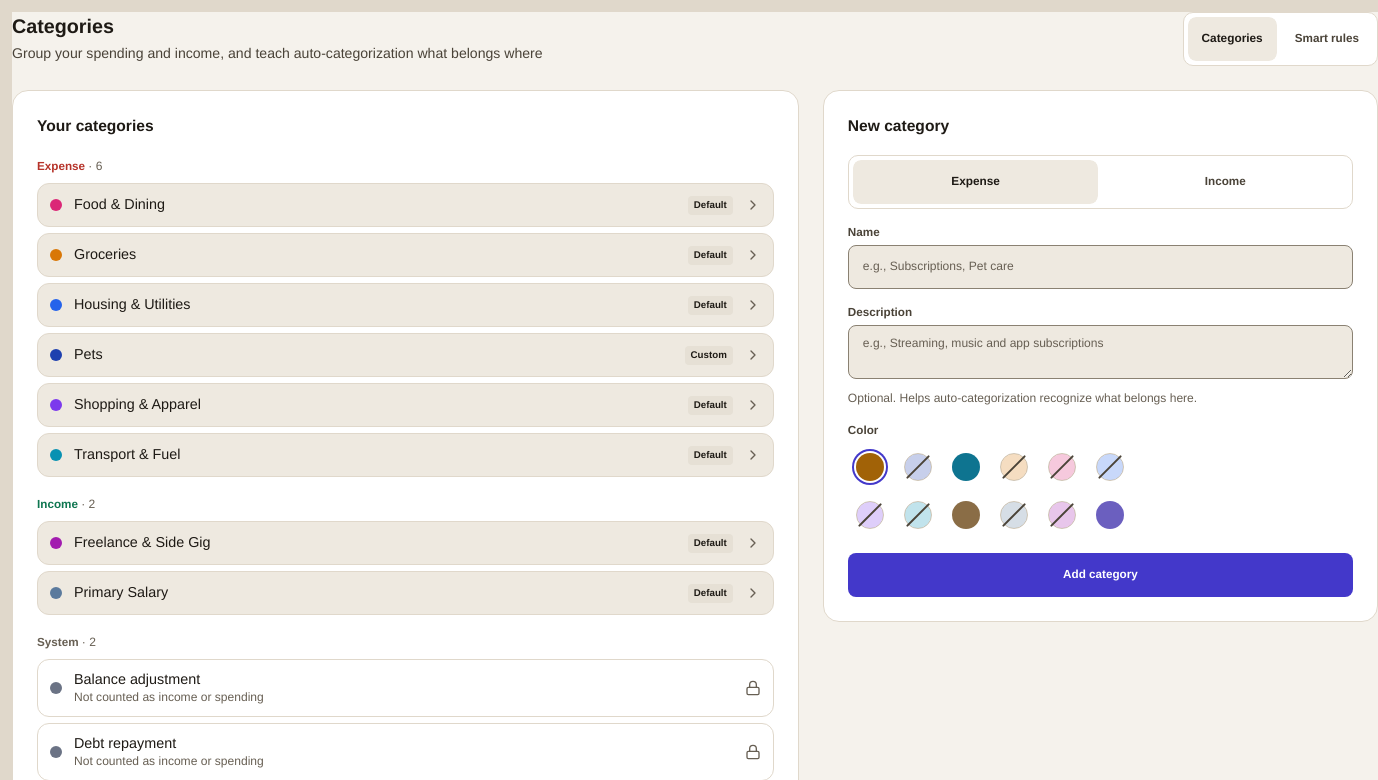
Test: the form, from lg › a row opens "Edit category" with its values, and Cancel returns to "New category"
The width and height of the screenshot is (1378, 780).
expect the heading with id "category-form-heading" reads "New category": met, box [848,113,949,140]
Click the button with id "category-edit-pets": (709, 355) [37,333,774,377]
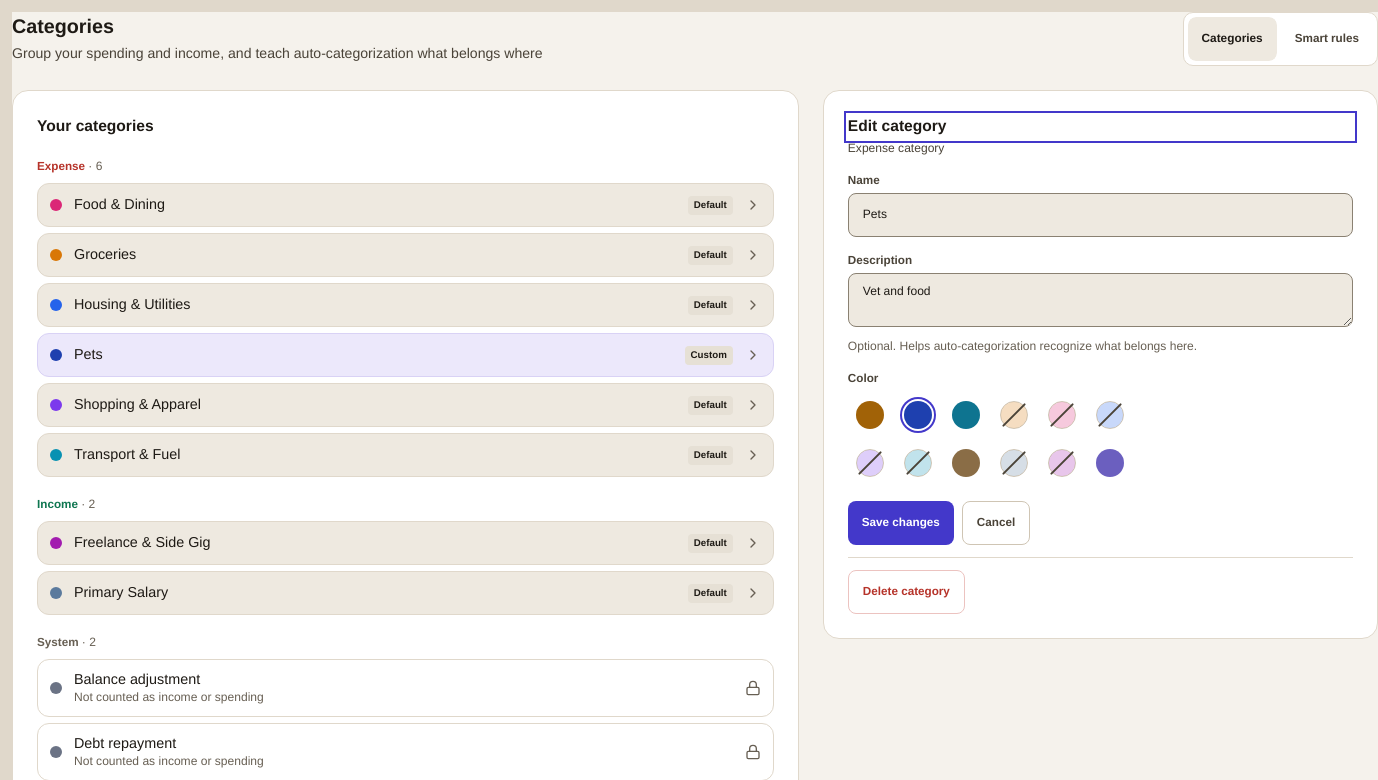
expect the heading with id "category-form-heading" reads "Edit category": met, box [848,113,946,140]
expect the field with id "category-edit-name" holds "Pets": met, box [848,193,1353,237]
expect the text box with id "category-edit-description" holds "Vet and food": met, box [848,273,1353,327]
Click the button with id "category-edit-cancel-btn": (996, 523) [962,501,1030,545]
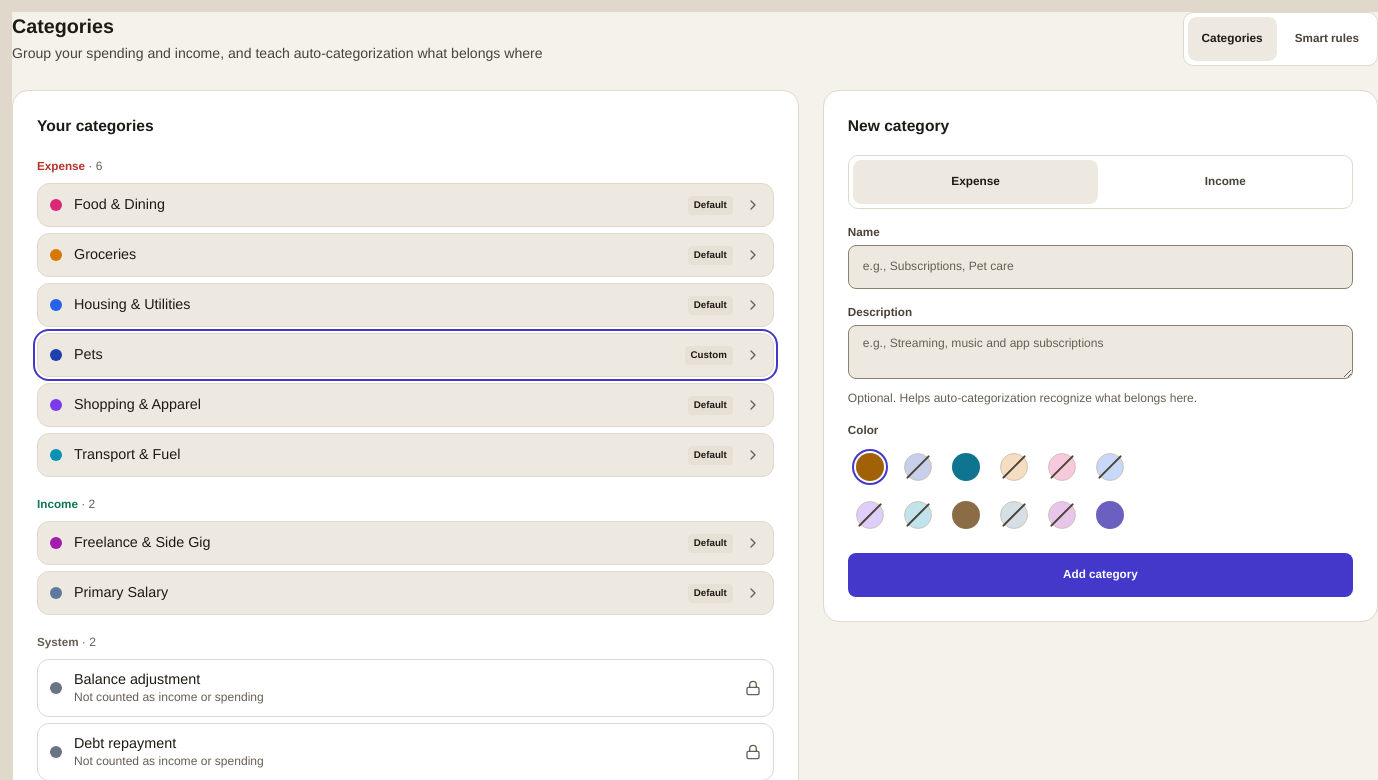
expect the label with id "category-edit-name" is gone: met
expect the field with id "category-new-name" is shown: met, box [848,245,1353,289]
